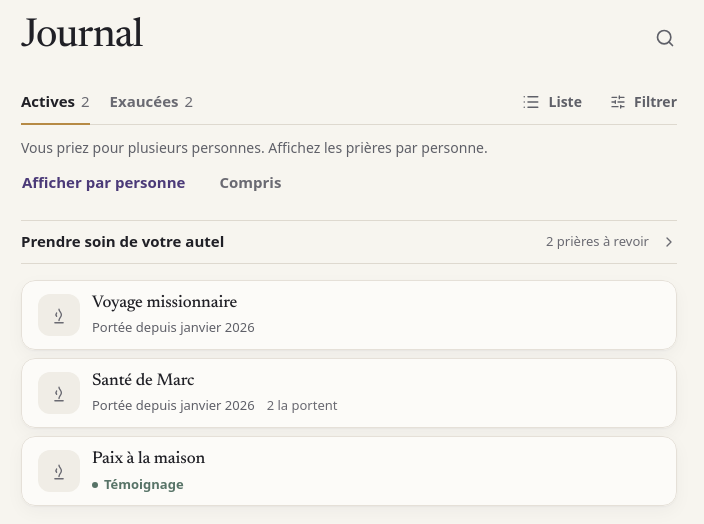
Journal retrieval › uses the same search across answered prayers and testimonies
Click the button "Exaucées2".
click(151, 102)  # box [110,80,193,124]
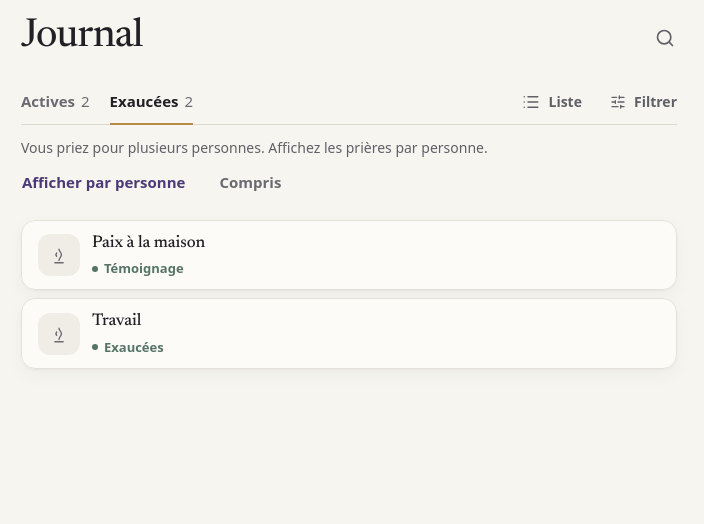
Click the button named "Rechercher...".
click(665, 38)  # box [643,16,687,60]
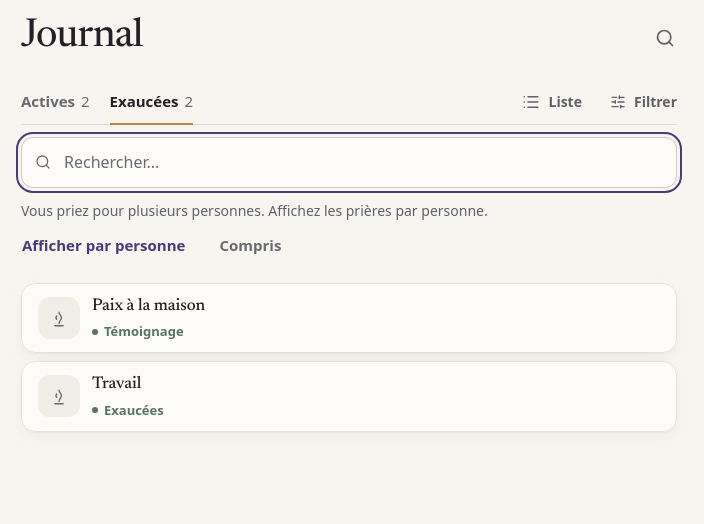
Type "restauree" into the field labelled "Rechercher...".
click(349, 162); type("restauree")  # box [21,137,677,188]
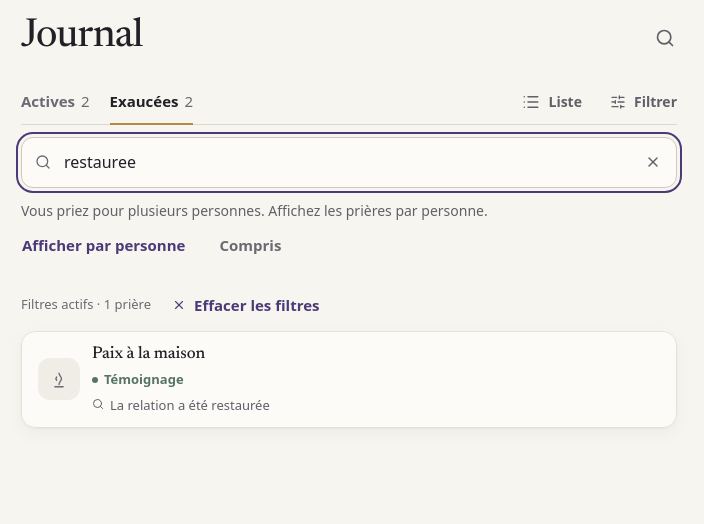
Check: the text "Paix à la maison" is shown, box [92,346,205,362]
Check: the button "Travail" is gone
